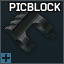AR-15 Windham Weaponry Rail Gas Block: (0, 0, 64, 64)
